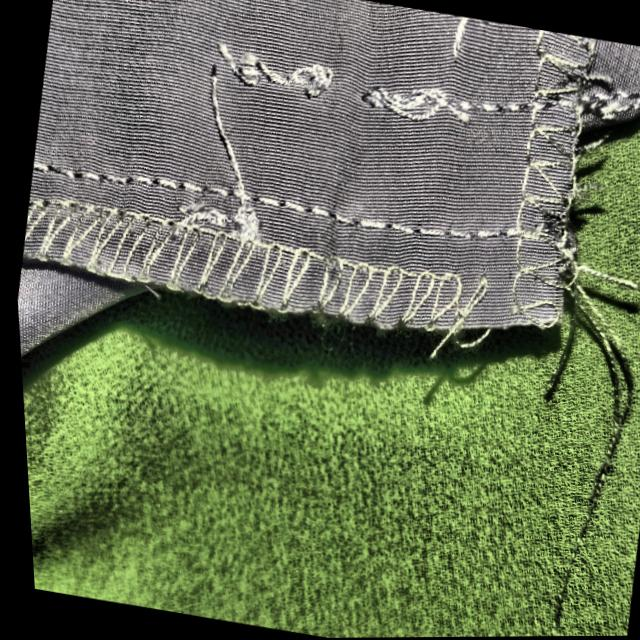Stitch: (367, 216, 640, 393), (245, 18, 502, 174)
